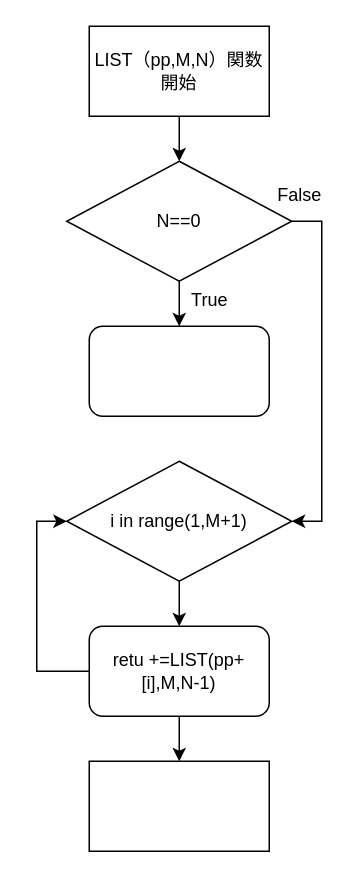
The diagram is 363 pixels wide and 878 high, and some of its shapes have lost their labels. The shapes that lost their labels are listed below. From the top down, each one's box as (x1, y1, x2, y2) in pixels, then its label:
(88, 325, 269, 416): return [pp]
(88, 760, 269, 851): 終了
